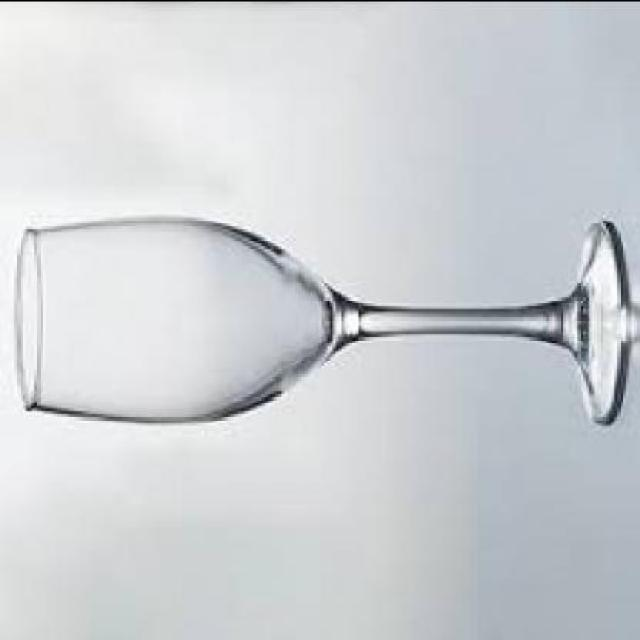glass: (11, 220, 626, 431)
